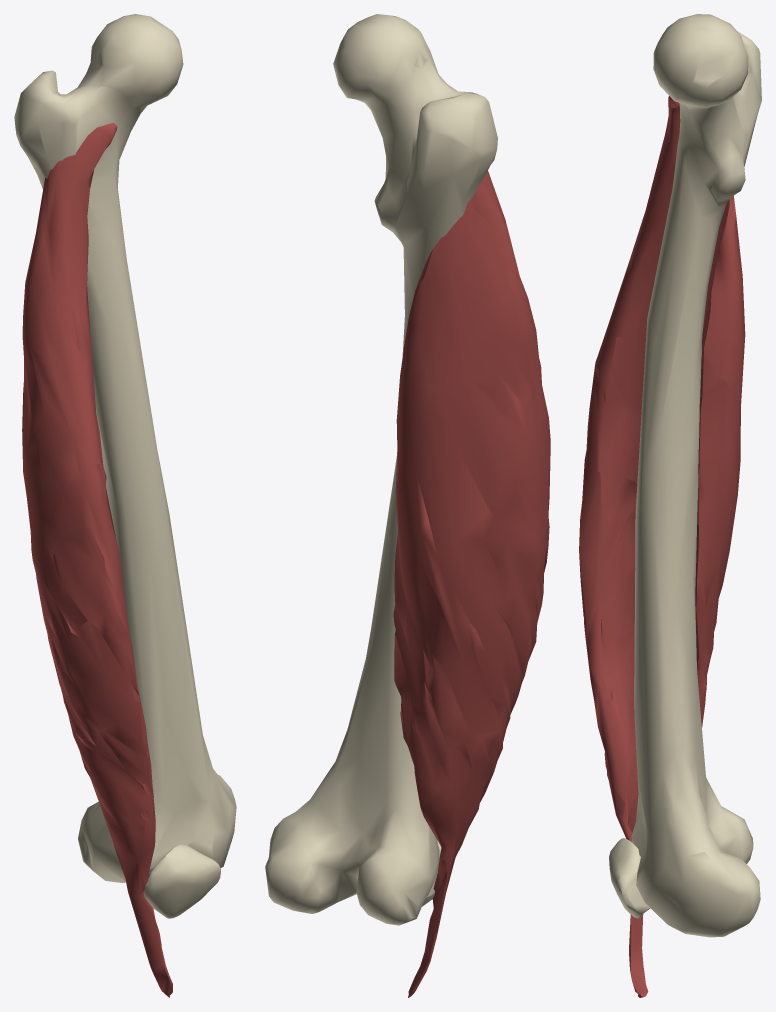
The model's file is muscle-detail.glb.
3 renders of one model, left to right at view 1: azimuth 30°, elevation 25°; view 2: azimuth 150°, elevation 25°; view 3: azimuth 270°, elevation 25°, orthographic. The views are drawn at different scales.
Visible parts, largest first — view 1: FJ3365, FJ1442, FJ3381; view 2: FJ1442, FJ3365; view 3: FJ3365, FJ1442, FJ3381.
Part boxes in pixels (box(x1,y1,x2,y2)): FJ3365: box(14, 14, 236, 882); FJ1442: box(22, 122, 172, 997); FJ3381: box(144, 844, 220, 918); FJ1442: box(393, 171, 550, 997); FJ3365: box(265, 14, 497, 925); FJ3365: box(631, 14, 761, 937); FJ1442: box(579, 96, 745, 997); FJ3381: box(609, 838, 650, 918).
Bounding box in the file's own units: 0.1277 × 0.5158 × 0.0875.
